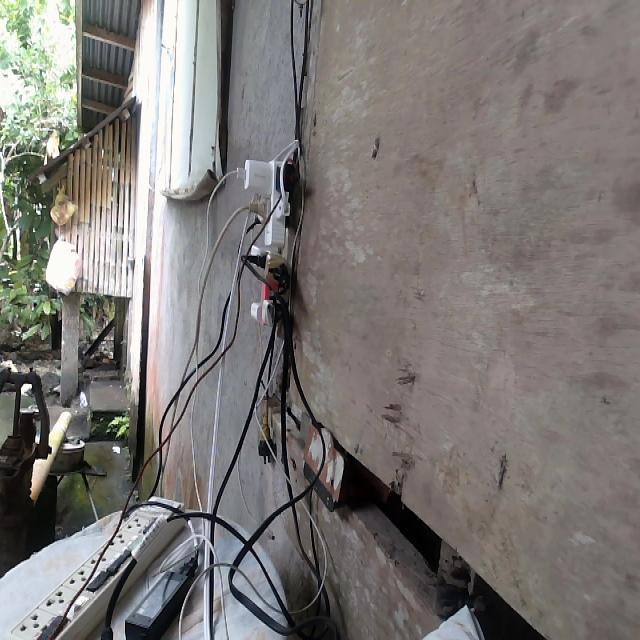-: (231, 152, 301, 327)
